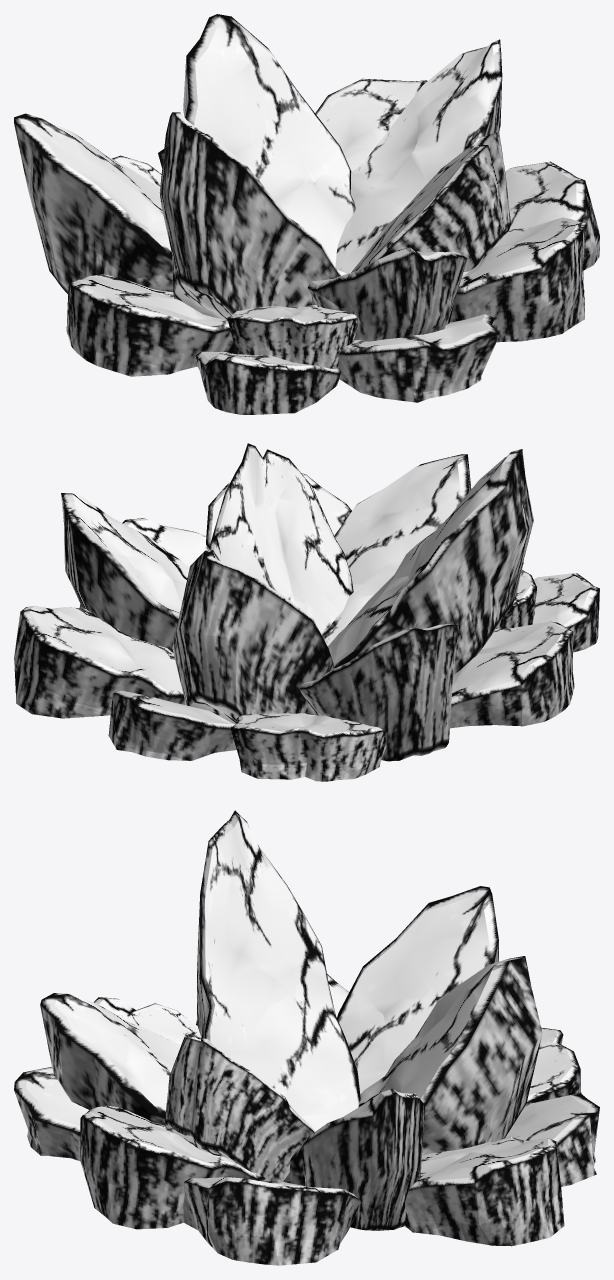
Rendered from GroundStone1.fbx.
The picture shows the model from 3 angles, top to bottom: view 1: azimuth 30°, elevation 25°; view 2: azimuth 150°, elevation 25°; view 3: azimuth 270°, elevation 25°; orthographic projection. The views are drawn at different scales.
Visible parts, largest first — view 1: SM_e_cmn_Stone006_Rubble; view 2: SM_e_cmn_Stone006_Rubble; view 3: SM_e_cmn_Stone006_Rubble.
Boxes of the visible parts, left/top/right/bottom form: SM_e_cmn_Stone006_Rubble: left=14, top=14, right=599, bottom=414; SM_e_cmn_Stone006_Rubble: left=14, top=443, right=599, bottom=781; SM_e_cmn_Stone006_Rubble: left=14, top=810, right=599, bottom=1265.
Size of the model in its own units: 94.54 by 44.21 by 96.08.
1 material, 1 textured.
